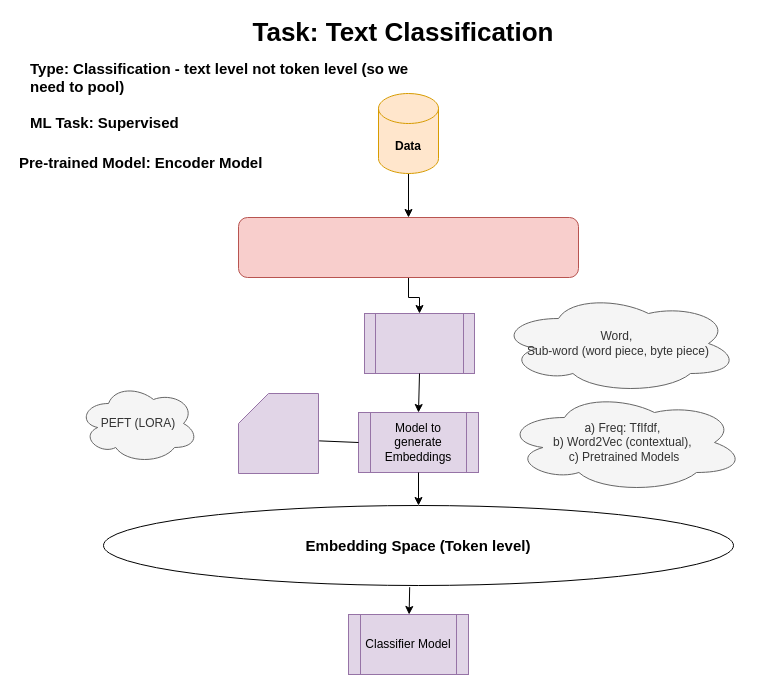
The diagram is 762 pixels wide and 692 high, and some of its shapes have lost their labels. Each missing label, with the centre of its shape:
"Fine-tuning for Pre-trained" belongs at [278,433].
"Tf-idf: lowercase, punctuation, stopwords, lemmatization/stemming" belongs at [408,247].
"Tokenizer" belongs at [419,343].
